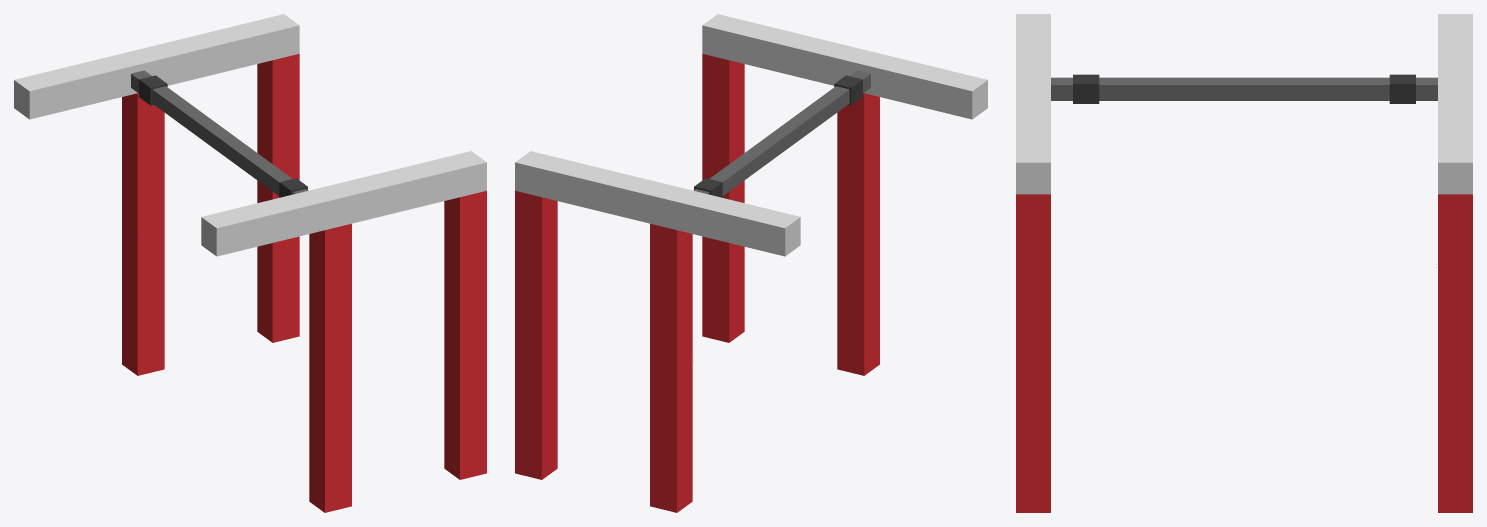
The model's file is LoaderObj.fbx.
The picture shows the model from 3 angles, left to right: view 1: azimuth 30°, elevation 25°; view 2: azimuth 150°, elevation 25°; view 3: azimuth 270°, elevation 25°; orthographic projection. The views are drawn at different scales.
Visible parts, largest first — view 1: Loader, Gantry; view 2: Loader, Gantry; view 3: Loader, Gantry.
Part boxes in pixels (<box>): Loader: <box>14,14,486,512</box>; Gantry: <box>131,70,308,197</box>; Loader: <box>515,14,987,512</box>; Gantry: <box>693,70,870,197</box>; Loader: <box>1016,14,1472,512</box>; Gantry: <box>1051,74,1437,103</box>.
Bounding box in the file's own units: 1000 × 1100 × 1300.
